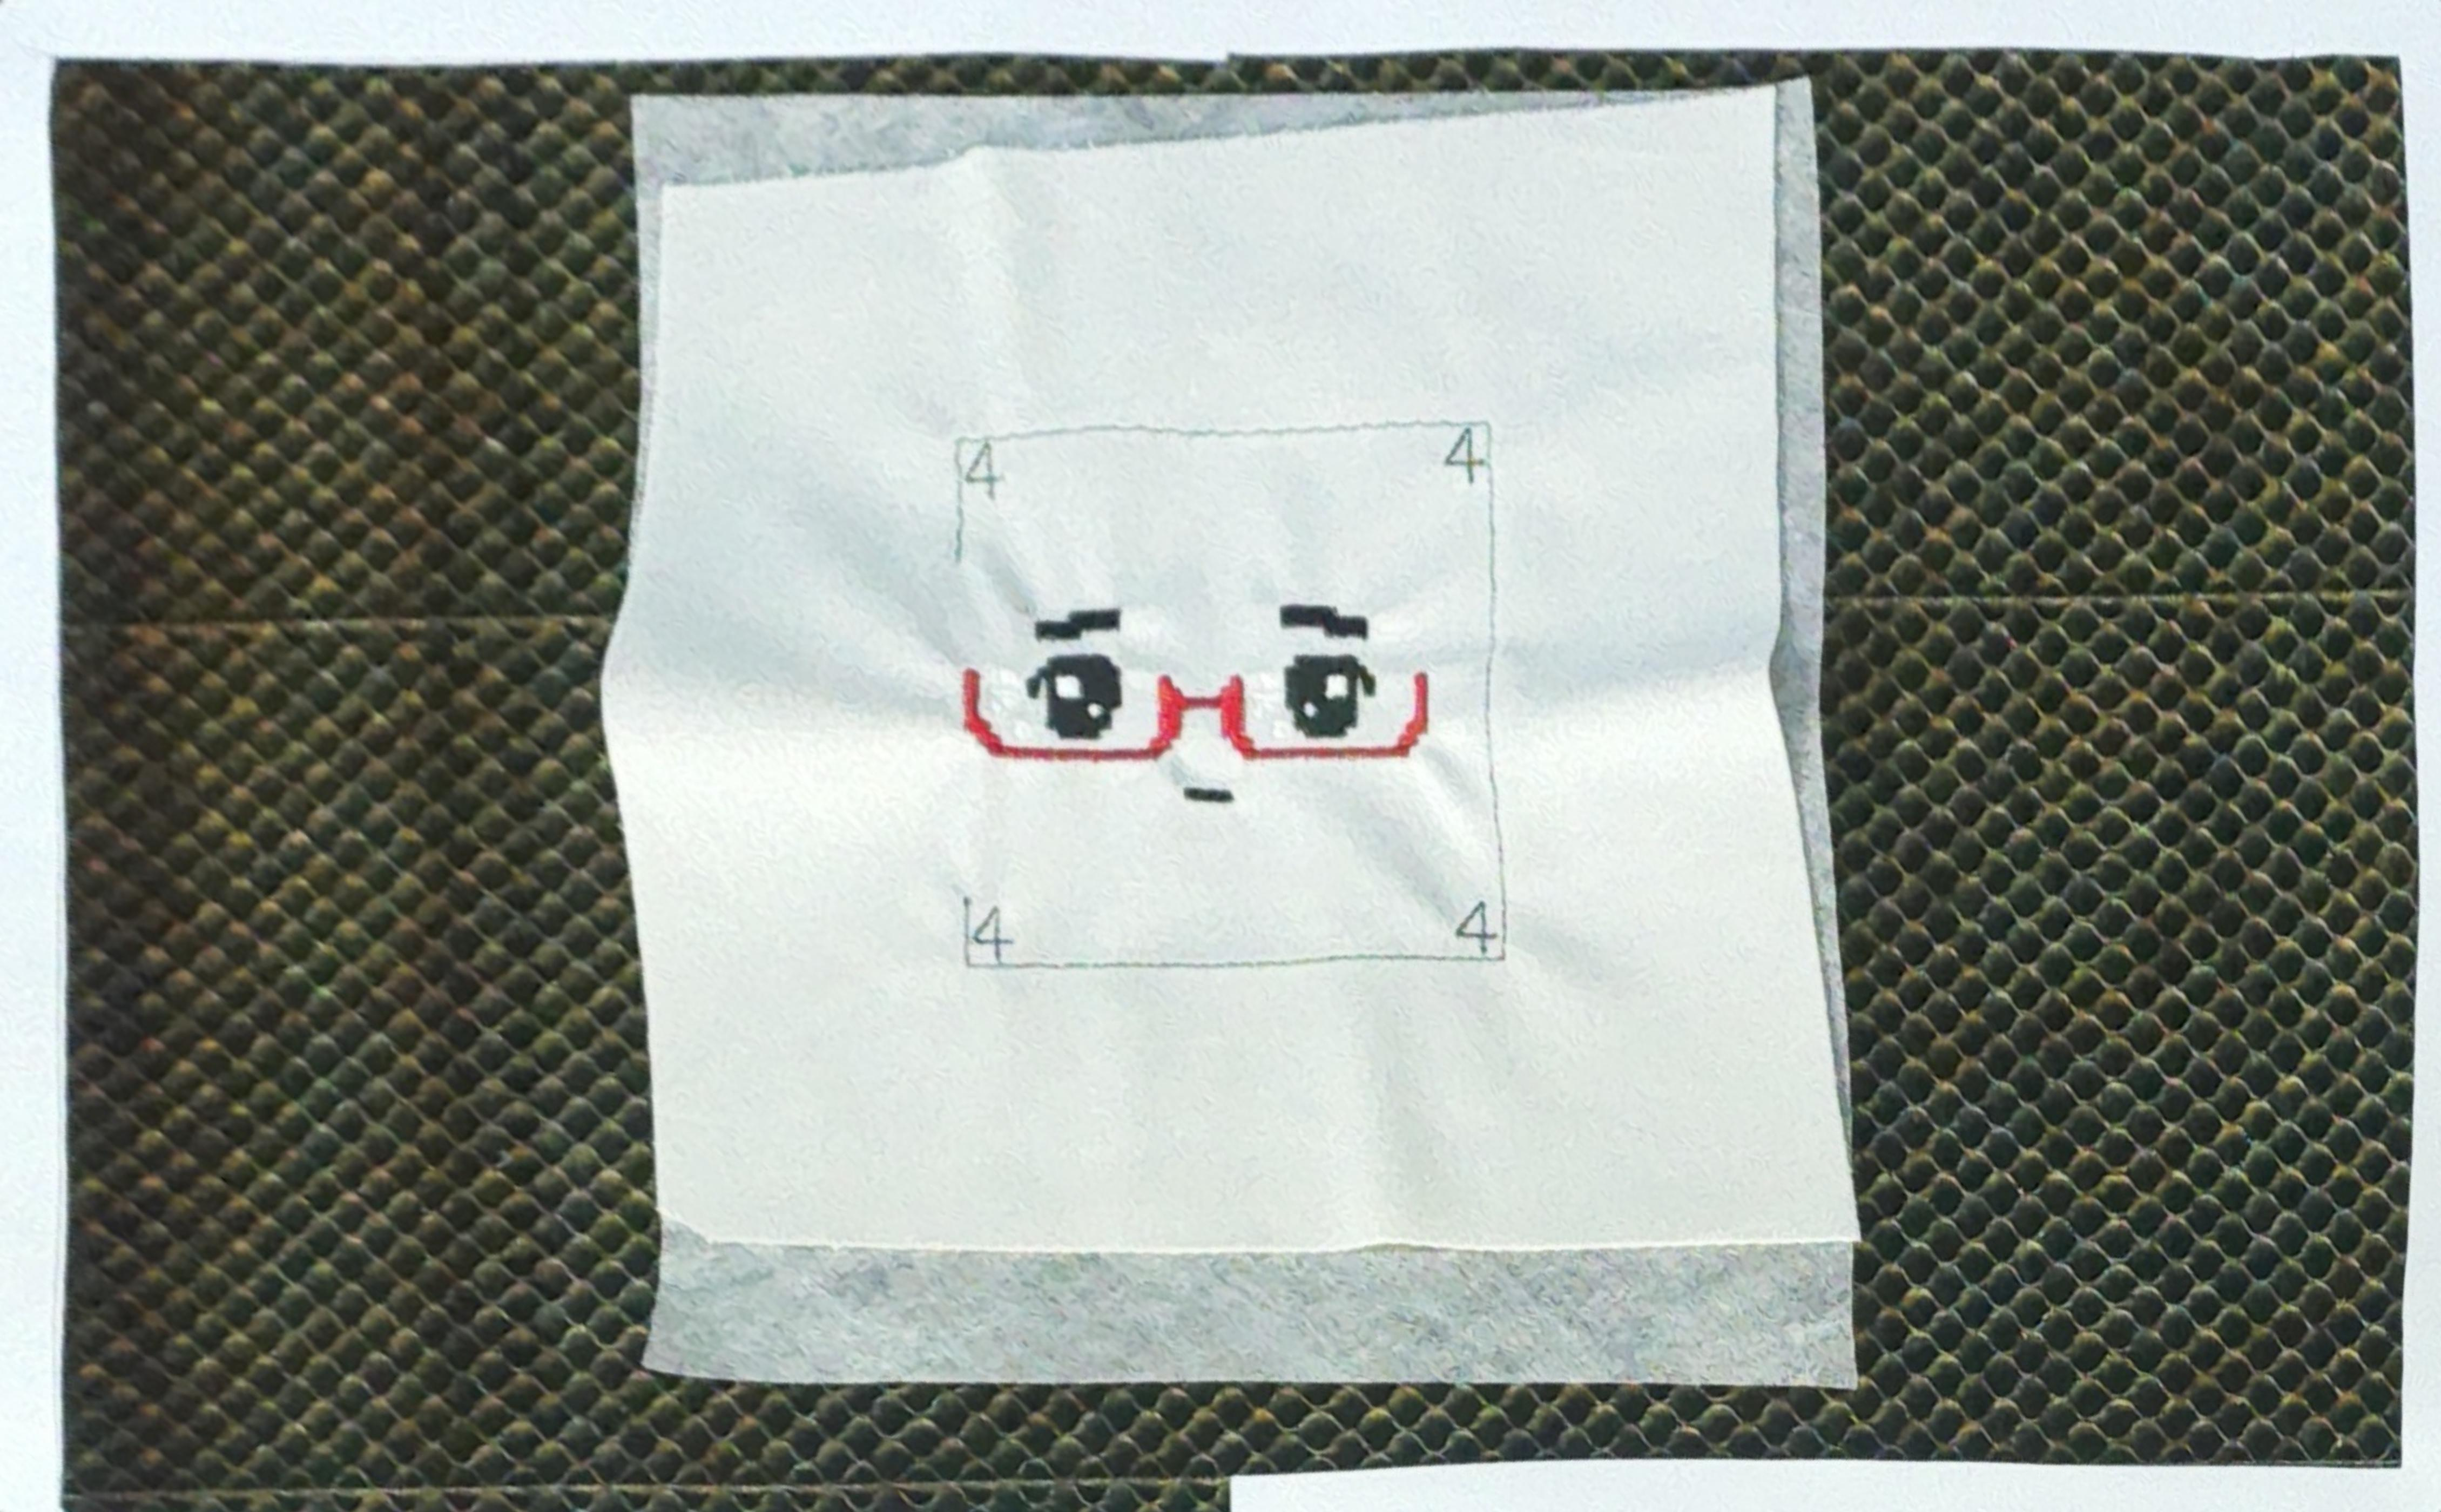4 -: (1447, 893, 1499, 959), (1437, 422, 1487, 488), (959, 438, 1010, 499), (973, 900, 1015, 964)
